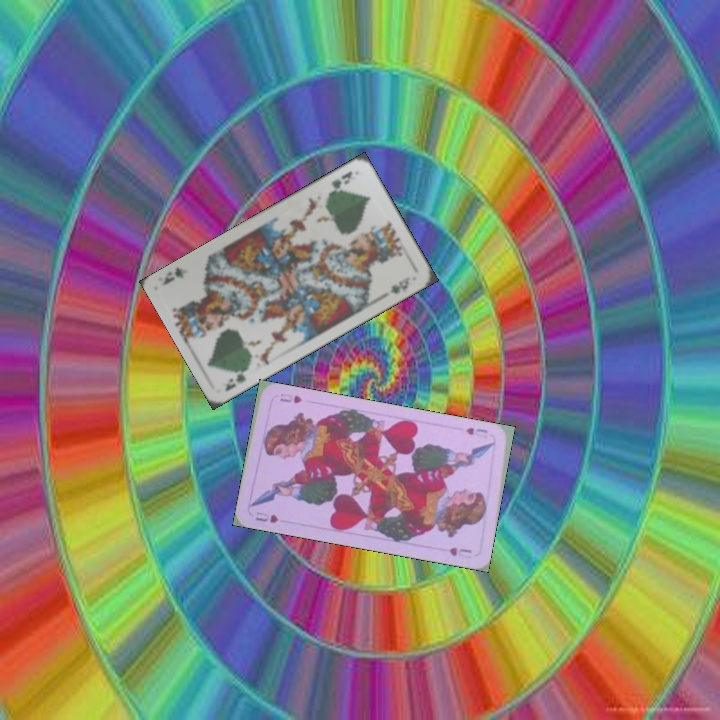GK: (221, 362, 252, 394), (328, 167, 355, 191)
HU: (462, 423, 496, 445), (251, 508, 281, 526)
